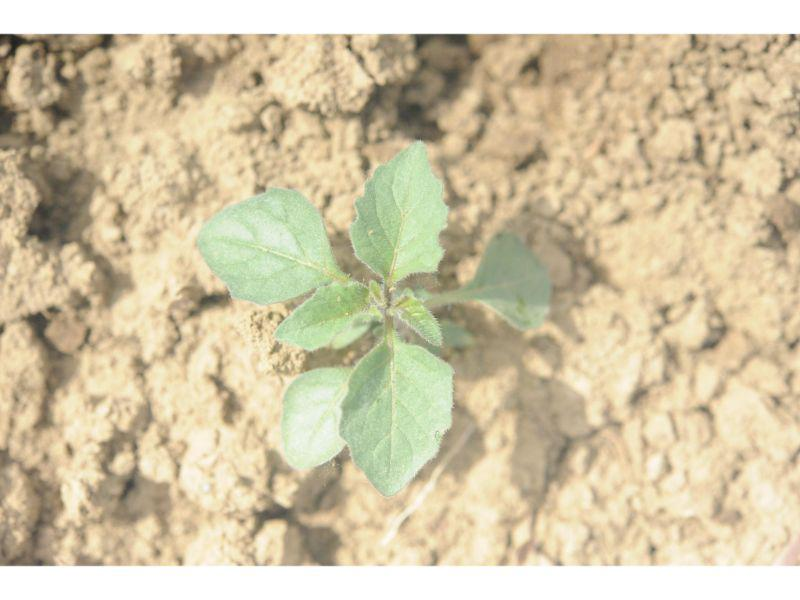nightshade: (196, 141, 558, 497)
